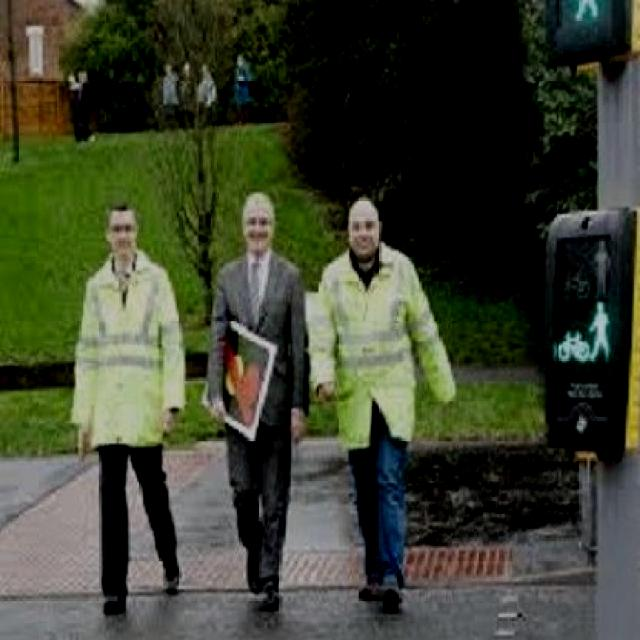Person: (318, 190, 458, 612), (68, 200, 184, 617), (205, 174, 307, 616)
